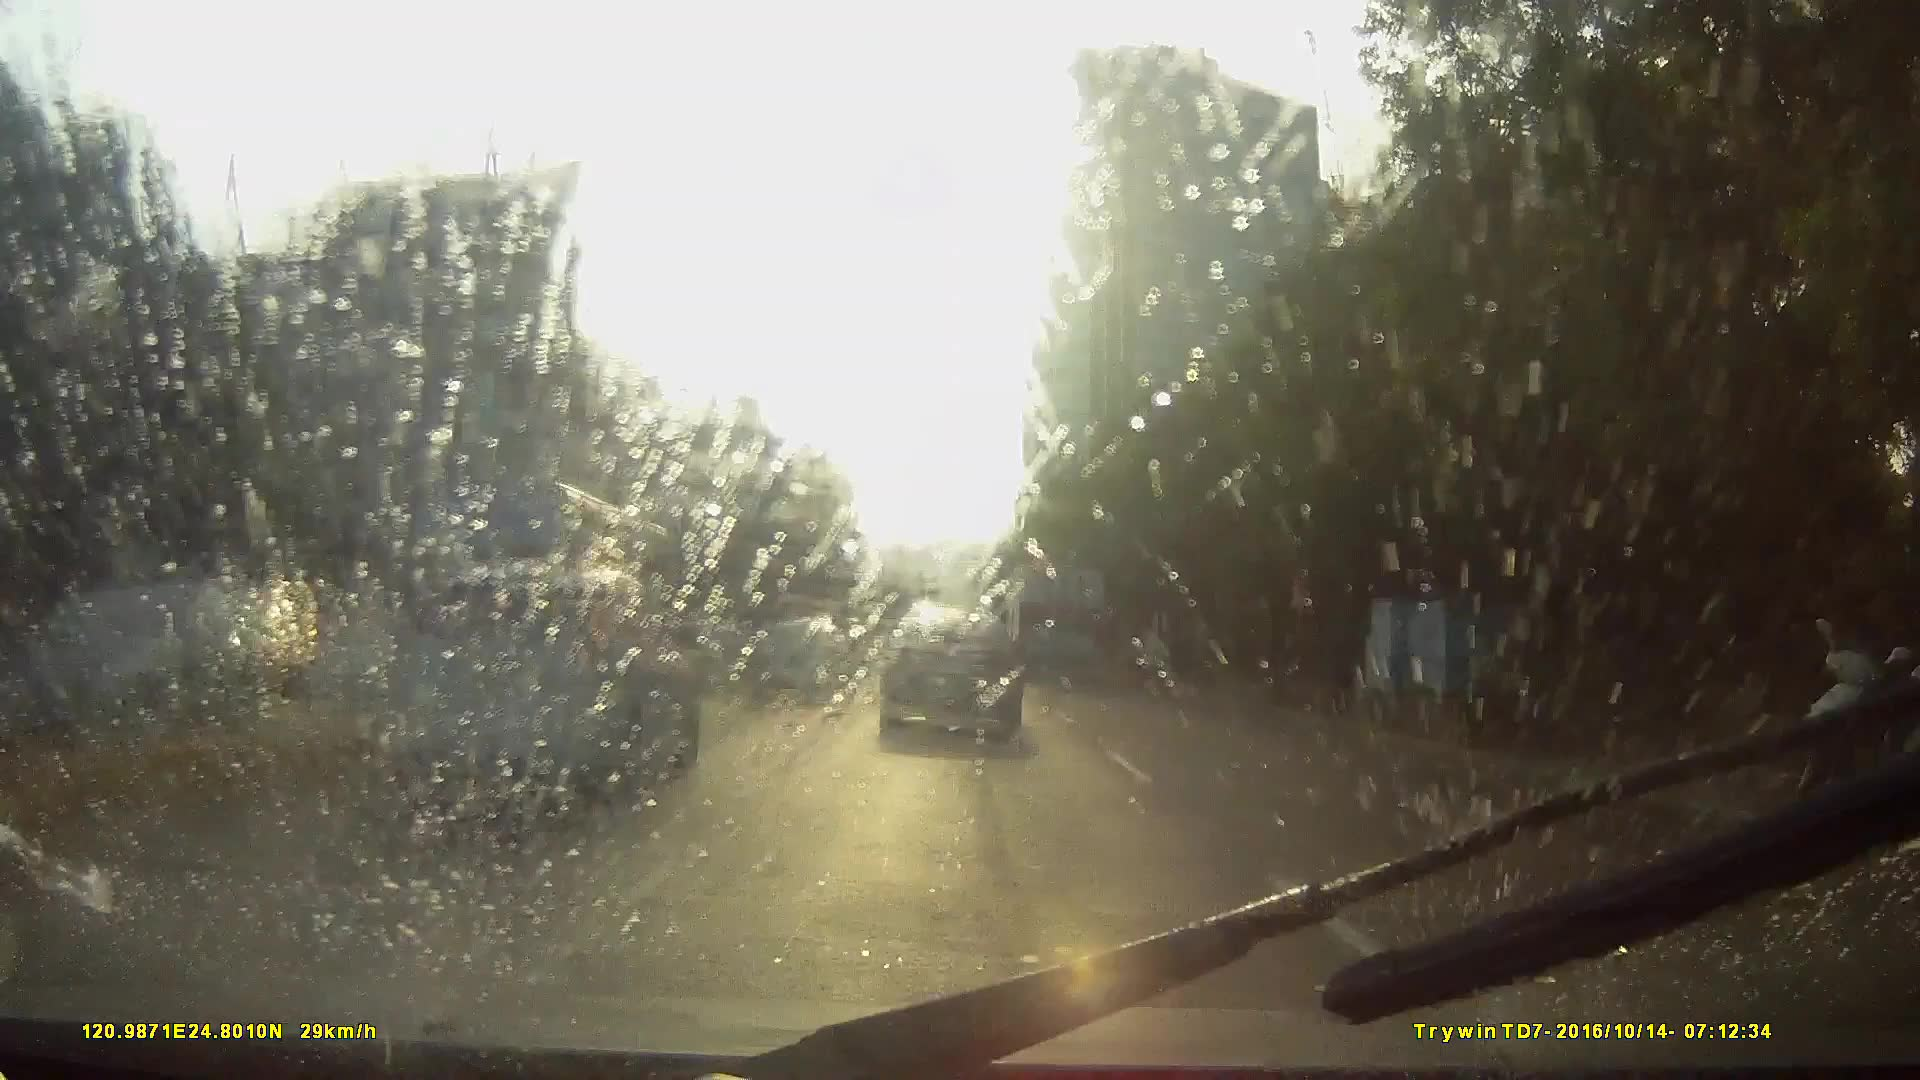vehicle: (251, 556, 684, 868), (376, 473, 709, 702), (392, 554, 702, 793), (880, 604, 1021, 752), (1000, 560, 1105, 687), (740, 617, 849, 703), (866, 638, 915, 687)
